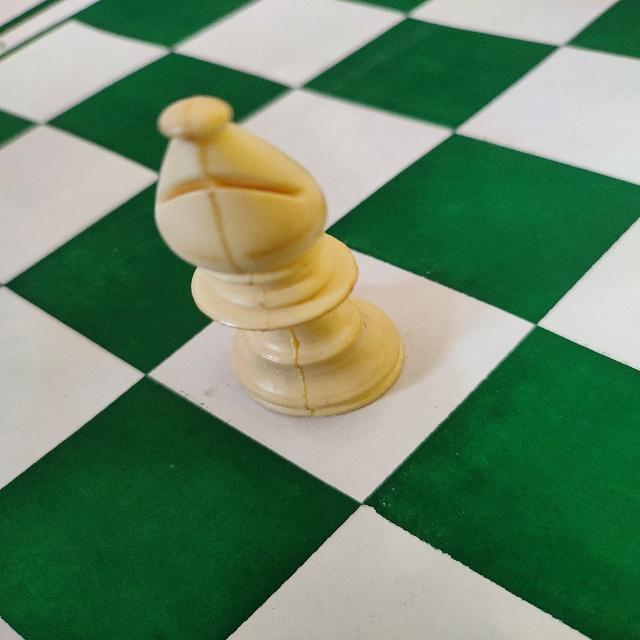Bishop: (148, 90, 408, 420)
